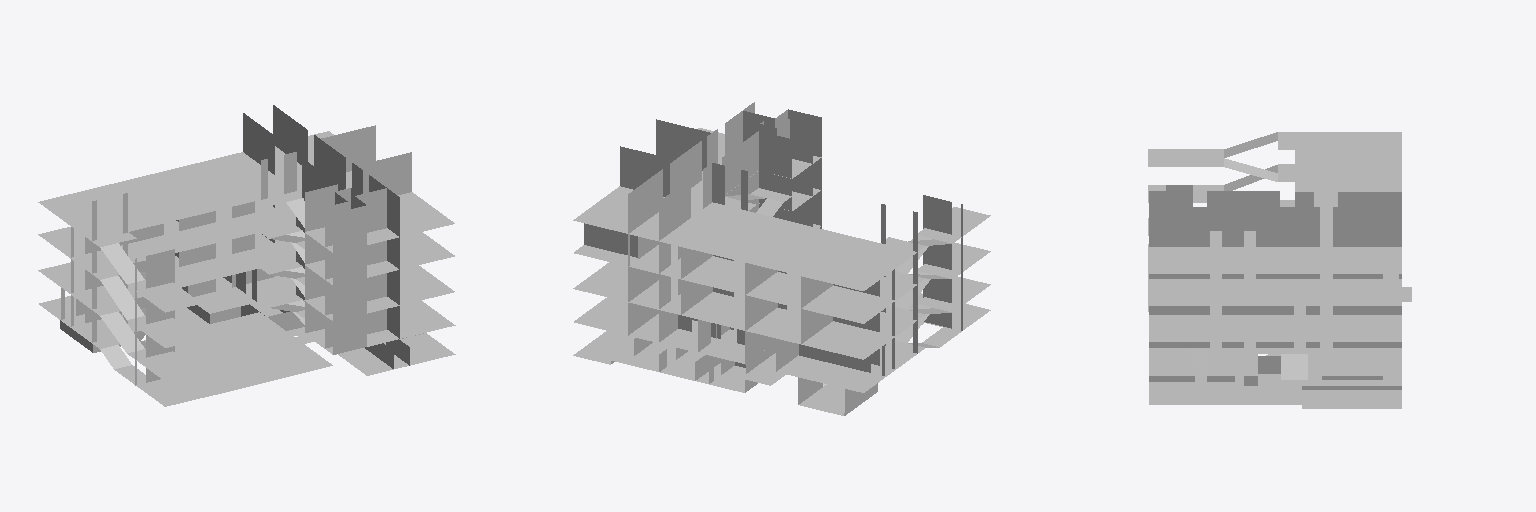
The model's file is PML30_simple.obj.
3 renders of one model, left to right at view 1: azimuth 30°, elevation 25°; view 2: azimuth 150°, elevation 25°; view 3: azimuth 270°, elevation 25°, orthographic.
Parts seen in each view (by area): view 1: Plane; view 2: Plane; view 3: Plane.
Part boxes in pixels (x1,y1,x2,y2): Plane: (38, 105, 455, 406); Plane: (573, 102, 990, 415); Plane: (1148, 132, 1411, 408).
Size of the model in its own units: 46.46 by 24.65 by 33.79.